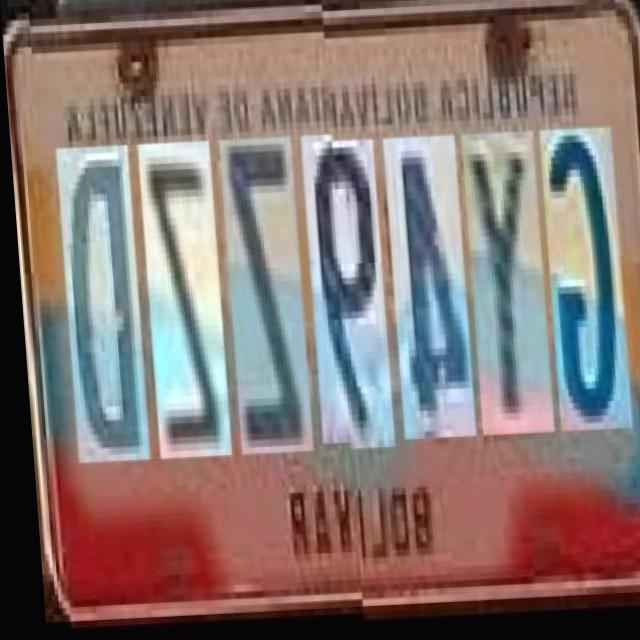4: (379, 133, 469, 437)
9: (297, 136, 387, 446)
d: (53, 146, 144, 464)
g: (536, 126, 626, 431)
y: (457, 130, 547, 434)
z: (216, 139, 307, 458), (135, 143, 226, 461)
